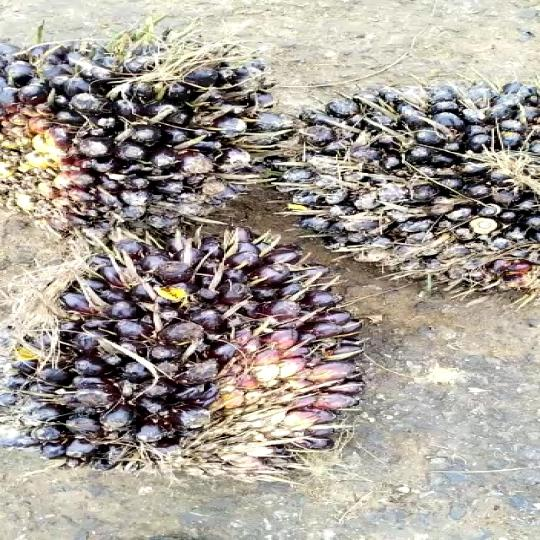mentah: (0, 230, 371, 498), (274, 59, 540, 300), (0, 30, 281, 252)
